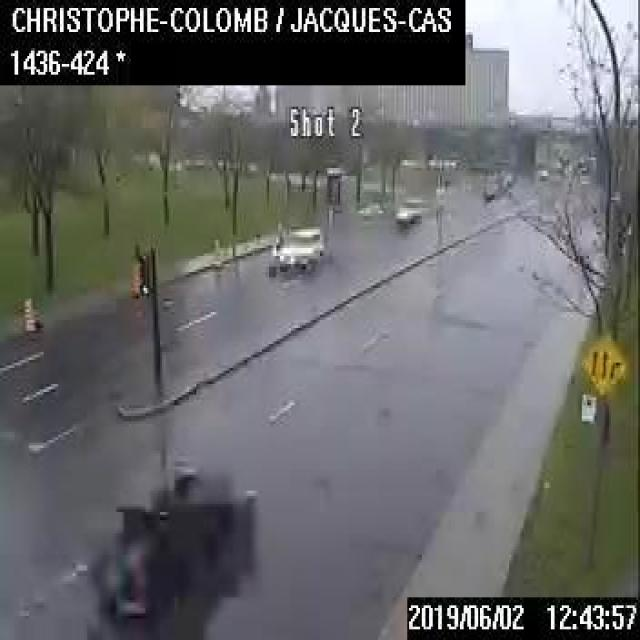bus: (399, 157, 460, 176)
construction: (130, 259, 140, 294), (22, 295, 32, 330)
vehicle: (95, 464, 252, 632), (274, 225, 322, 267), (393, 200, 420, 221), (480, 183, 497, 200), (533, 162, 547, 178)
